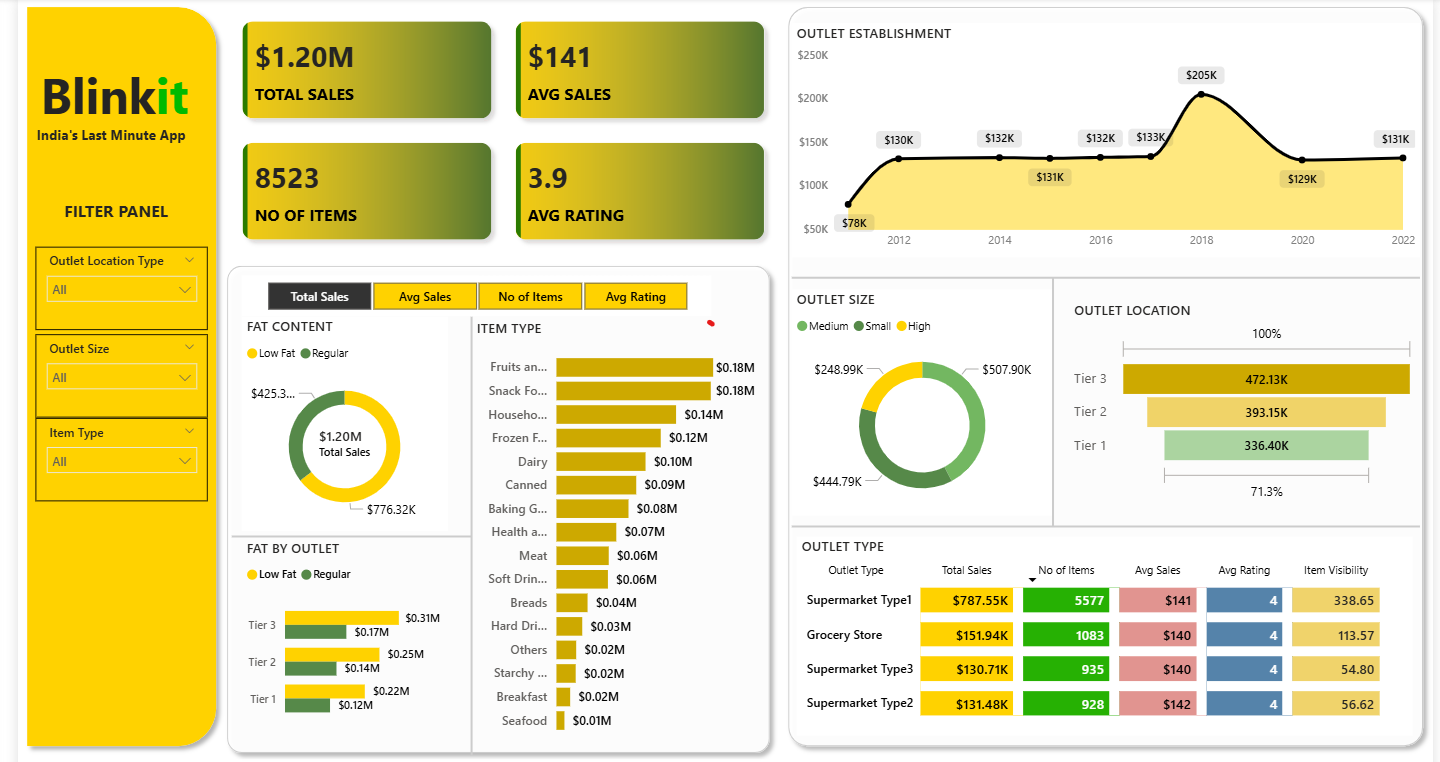

What the dashboard file says about the page in this screenshot:
{"tool":"powerbi","page":{"name":"Page 1","canvas":[1400,800],"ordinal":0},"visuals":[{"type":"shape","box":[0,0,205.1,749.3],"z":0},{"type":"textbox","box":[17.4,57.6,170.2,73.7],"z":1000},{"type":"textbox","box":[13.4,120.6,182.3,28.2],"z":2000},{"type":"cardVisual","fields":{"Data":["BlinkIT Grocery Data.Total Sales","BlinkIT Grocery Data.Avg Sales","BlinkIT Grocery Data.No of Items","BlinkIT Grocery Data.Avg Rating"]},"box":[205.1,6.7,550.9,250.7],"z":3000},{"type":"shape","box":[198.4,256,555,500],"z":4000},{"type":"donutChart","title":"FAT CONTENT","fields":{"Y":["BlinkIT Grocery Data.Total Sales"],"Category":["BlinkIT Grocery Data.Item Fat Content"]},"box":[221.2,315,203.8,211.8],"z":5000},{"type":"slicer","fields":{"Values":["Metrics.Metrics"]},"box":[221.2,274.8,465.1,40.2],"z":6000},{"type":"cardVisual","fields":{"Data":["BlinkIT Grocery Data.Total Sales"]},"box":[280.2,399.5,103.2,81.8],"z":7000},{"type":"clusteredBarChart","title":"FAT BY OUTLET","fields":{"Y":["BlinkIT Grocery Data.Total Sales"],"Category":["BlinkIT Grocery Data.Outlet Location Type"],"Series":["BlinkIT Grocery Data.Item Fat Content"]},"box":[221.3,534.7,201.3,193.3],"z":8000},{"type":"shape","box":[211.8,512.1,237.3,41.6],"z":9000},{"type":"shape","box":[442.4,315,12.1,434.3],"z":10000},{"type":"barChart","title":"ITEM TYPE","fields":{"Y":["BlinkIT Grocery Data.Total Sales"],"Category":["BlinkIT Grocery Data.Item Type"]},"box":[449.1,316.4,285.5,422.3],"z":11000},{"type":"shape","box":[753.4,0,646.1,749.3],"z":12000},{"type":"lineChart","title":"OUTLET ESTABLISHMENT","fields":{"Y":["BlinkIT Grocery Data.Total Sales"],"Category":["BlinkIT Grocery Data.Outlet Establishment Year"]},"box":[765.4,24.1,622,231.9],"z":13000},{"type":"shape","box":[765.4,256,622,41.6],"z":14000},{"type":"donutChart","title":"OUTLET SIZE","fields":{"Y":["BlinkIT Grocery Data.Total Sales"],"Category":["BlinkIT Grocery Data.Outlet Size"]},"box":[765.4,288.2,258.7,223.9],"z":15000},{"type":"shape","box":[1008,277.5,32.2,246.7],"z":16000},{"type":"funnel","title":"OUTLET LOCATION","fields":{"Y":["Sum(BlinkIT Grocery Data.Sales)"],"Category":["BlinkIT Grocery Data.Outlet Location Type"]},"box":[1040.2,298.9,347.2,203.8],"z":17000},{"type":"shape","box":[765.4,502.7,622,41.6],"z":18000},{"type":"pivotTable","title":"OUTLET TYPE","fields":{"Rows":["BlinkIT Grocery Data.Outlet Type"],"Values":["BlinkIT Grocery Data.Total Sales","BlinkIT Grocery Data.No of Items","BlinkIT Grocery Data.Avg Sales","BlinkIT Grocery Data.Avg Rating","Sum(BlinkIT Grocery Data.Item Visibility)"]},"box":[770.8,533.5,609.9,197.1],"z":19000},{"type":"slicer","fields":{"Values":["BlinkIT Grocery Data.Outlet Location Type"]},"box":[17.3,246.7,170.7,82.7],"z":20000},{"type":"slicer","fields":{"Values":["BlinkIT Grocery Data.Outlet Size"]},"box":[17.3,333.3,170.7,82.7],"z":21000},{"type":"slicer","fields":{"Values":["BlinkIT Grocery Data.Item Type"]},"box":[17.3,416,170.7,82.7],"z":22000},{"type":"textbox","box":[41.3,194.7,121.3,40],"z":23000}]}

Visuals, with their boxes on the page's 1400x800 design canvas (x1, y1, x2, y2). These are canvas units, not pixel positions in the 1440x762 screenshot, which may show the page scaled, cropped or inside an application window:
shape: left=0, top=0, right=205, bottom=749
textbox: left=17, top=58, right=188, bottom=131
textbox: left=13, top=121, right=196, bottom=149
cardVisual - BlinkIT Grocery Data.Total Sales x BlinkIT Grocery Data.Avg Sales: left=205, top=7, right=756, bottom=257
shape: left=198, top=256, right=753, bottom=756
"FAT CONTENT" donutChart: left=221, top=315, right=425, bottom=527
slicer - Metrics.Metrics: left=221, top=275, right=686, bottom=315
cardVisual - BlinkIT Grocery Data.Total Sales: left=280, top=400, right=383, bottom=481
"FAT BY OUTLET" clusteredBarChart: left=221, top=535, right=423, bottom=728
shape: left=212, top=512, right=449, bottom=554
shape: left=442, top=315, right=454, bottom=749
"ITEM TYPE" barChart: left=449, top=316, right=735, bottom=739
shape: left=753, top=0, right=1400, bottom=749
"OUTLET ESTABLISHMENT" lineChart: left=765, top=24, right=1387, bottom=256
shape: left=765, top=256, right=1387, bottom=298
"OUTLET SIZE" donutChart: left=765, top=288, right=1024, bottom=512
shape: left=1008, top=278, right=1040, bottom=524
"OUTLET LOCATION" funnel: left=1040, top=299, right=1387, bottom=503
shape: left=765, top=503, right=1387, bottom=544
"OUTLET TYPE" pivotTable: left=771, top=534, right=1381, bottom=731
slicer - BlinkIT Grocery Data.Outlet Location Type: left=17, top=247, right=188, bottom=329
slicer - BlinkIT Grocery Data.Outlet Size: left=17, top=333, right=188, bottom=416
slicer - BlinkIT Grocery Data.Item Type: left=17, top=416, right=188, bottom=499
textbox: left=41, top=195, right=163, bottom=235
